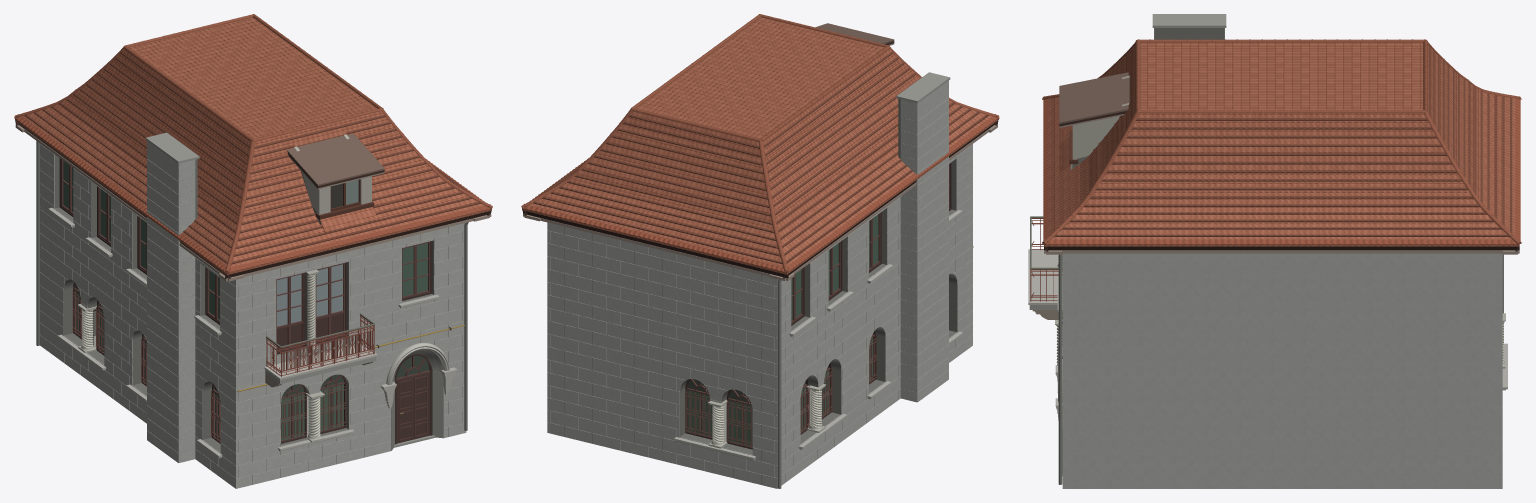
The model's file is hongkou-dongtiyuhui-lane-119-old-no3-garden-residence-web.glb.
3 views of the same model, side by side, from view 1: azimuth 30°, elevation 25°; view 2: azimuth 150°, elevation 25°; view 3: azimuth 270°, elevation 25° (orthographic). The views are drawn at different scales.
Visible parts, largest first — view 1: 东体育会路119弄老3号花园住宅; view 2: 东体育会路119弄老3号花园住宅; view 3: 东体育会路119弄老3号花园住宅.
Part boxes in pixels (left/top/right/bottom): 东体育会路119弄老3号花园住宅: left=14, top=14, right=492, bottom=488; 东体育会路119弄老3号花园住宅: left=521, top=14, right=999, bottom=488; 东体育会路119弄老3号花园住宅: left=1028, top=14, right=1521, bottom=488.
Size of the model in its own units: 9.79 by 10.91 by 13.89.
33 materials, 2 textured.
